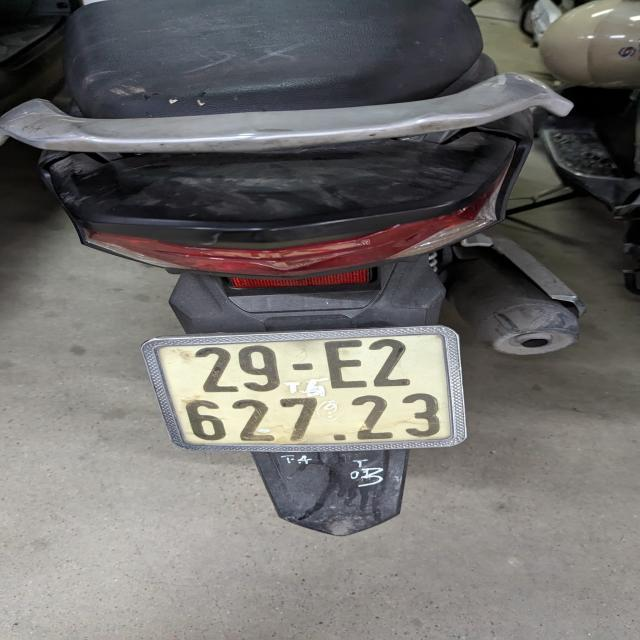license: (140, 323, 467, 453)
